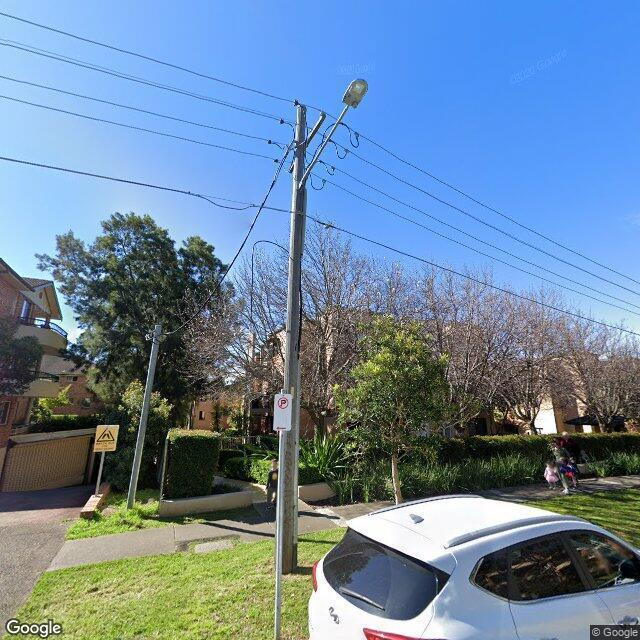crossarm: (288, 111, 326, 173)
steel-pole: (126, 324, 162, 509)
streetlight: (298, 79, 369, 191)
timber-pole: (278, 103, 307, 574)
